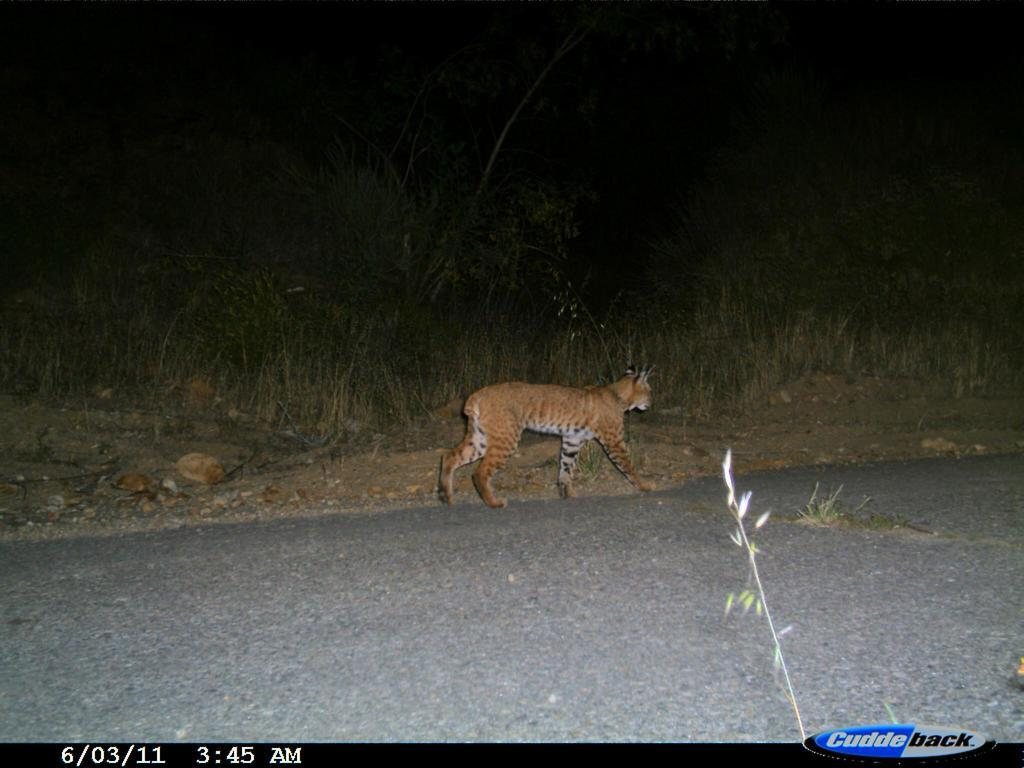bobcat: (433, 373, 673, 518)
